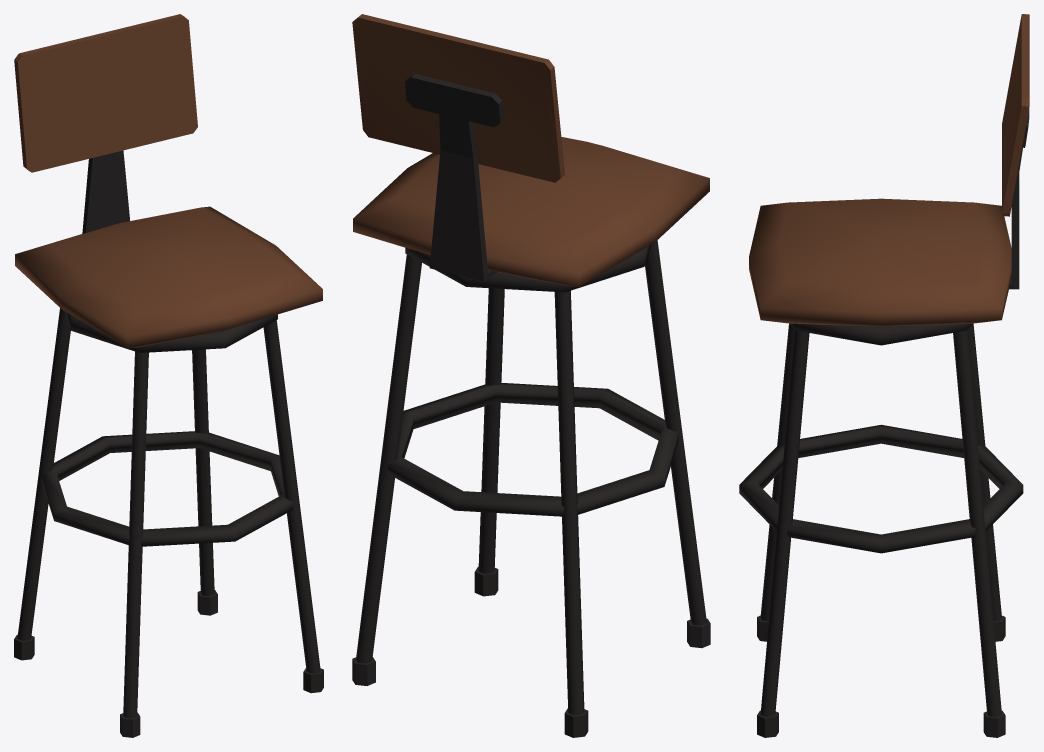
Rendered from chair5.FBX.
3 renders of one model, left to right at view 1: azimuth 30°, elevation 25°; view 2: azimuth 150°, elevation 25°; view 3: azimuth 270°, elevation 25°, orthographic. The views are drawn at different scales.
Visible parts, largest first — view 1: chair5; view 2: chair5; view 3: chair5.
Boxes of the visible parts, x1,y1,x2,y2 form: chair5: (14,14,323,737); chair5: (352,14,710,737); chair5: (739,14,1029,737).
Bounding box in the file's own units: 42.95 × 105 × 43.93.
